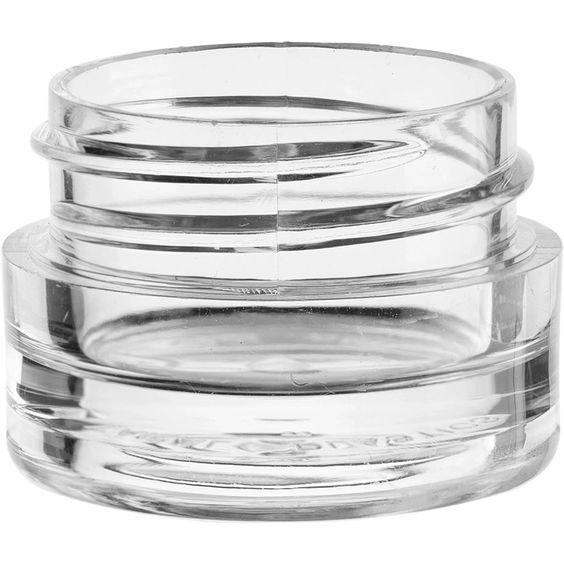PS: (0, 40, 564, 520)
